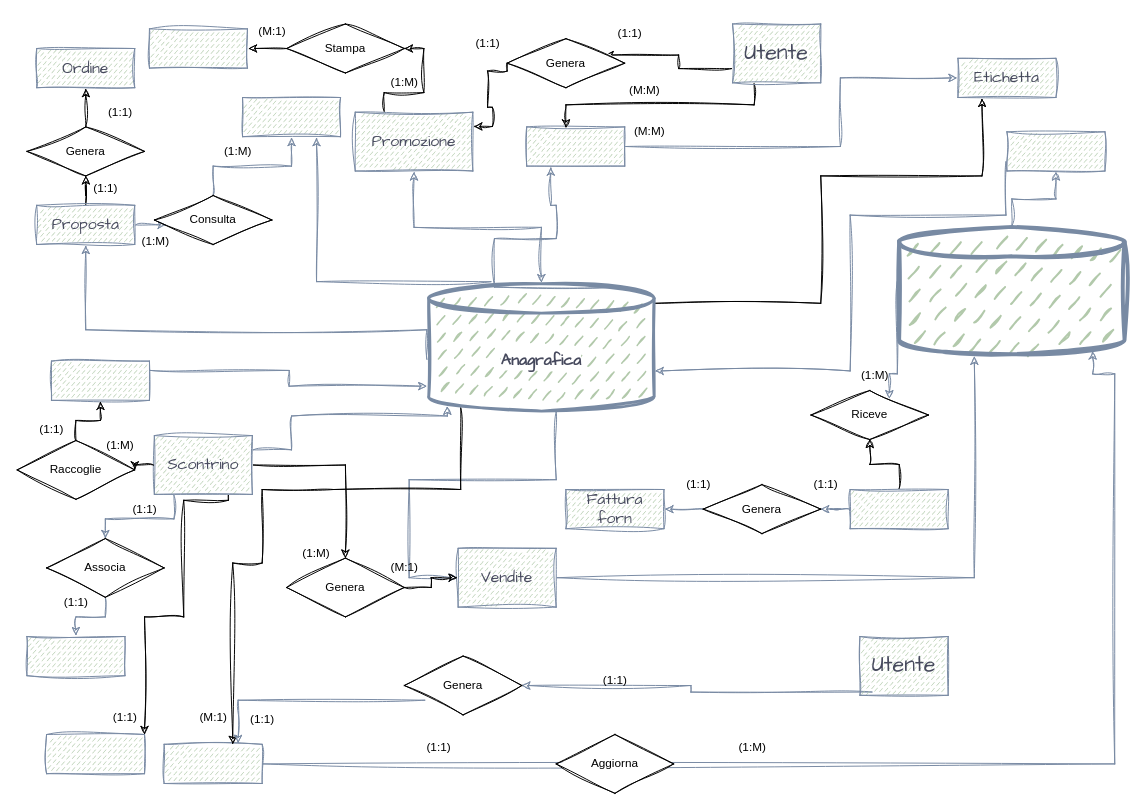
Some shapes in this 1144 by 810 pixel diagram are drawn without their labels. The shapes that lost their labels are listed below. From the top down, each one's centre as x and y in pixels, then its label:
At point (197, 48): "Cartello".
At point (291, 117): "Assortimento".
At point (575, 146): "P.vendita".
At point (1055, 151): "Display".
At point (1011, 290): "Magazzino".
At point (99, 380): "Transazioni".
At point (898, 509): "Bolla".
At point (75, 656): "Cliente".
At point (95, 754): "Fattura cliente".
At point (212, 763): "Dispersioni".
